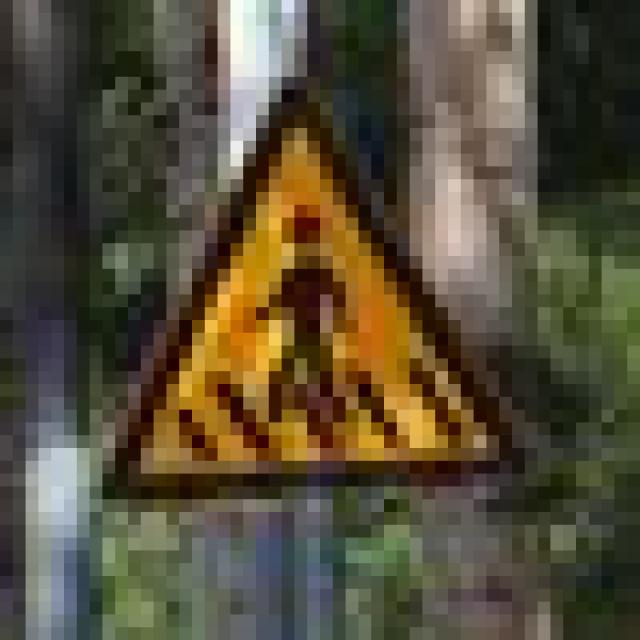PEDESTRIAN_CROSSING: (90, 64, 512, 486)
